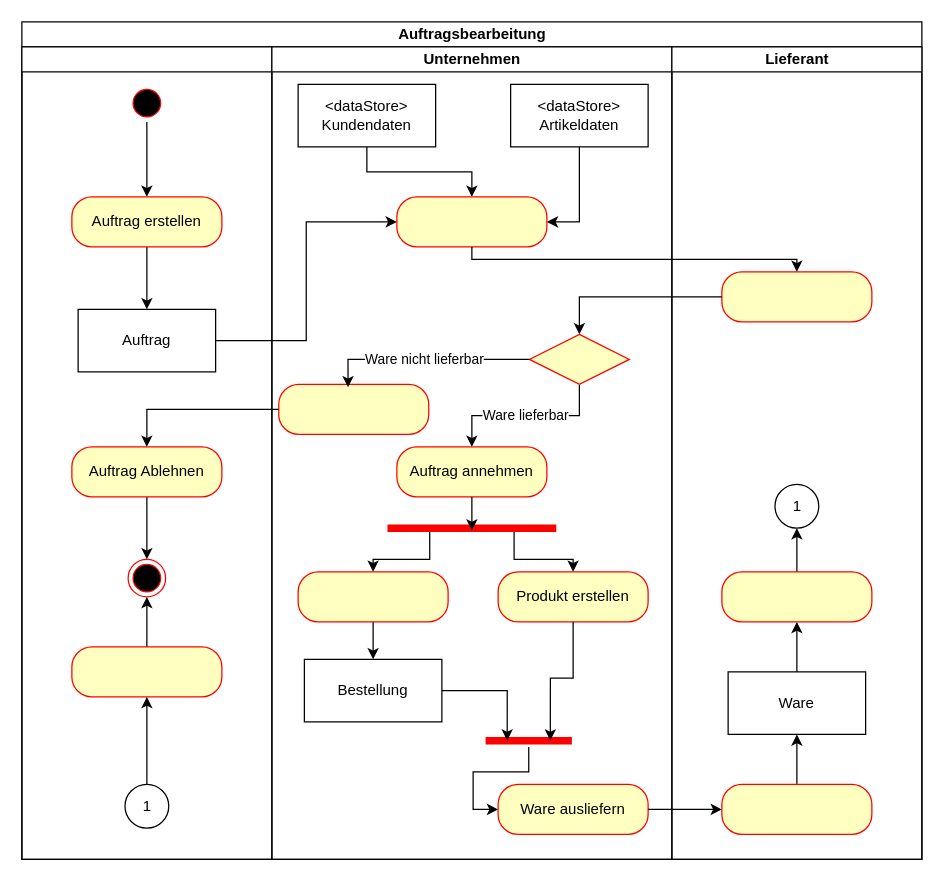
Image size: 944x881. Some labels were removed from this diagram. Each missing label, with the box of its shape:
Auftrag bearbeiten: (396, 196, 547, 247)
Bestellung abwickeln: (297, 571, 448, 622)
Kunde: (21, 46, 272, 859)
Kunde Informieren: (278, 383, 429, 434)
Lieferfähigkeit prüfen: (721, 271, 872, 322)
Ware annehmen: (721, 783, 872, 834)
Ware erhalten: (71, 646, 222, 697)
Ware liefern: (721, 571, 872, 622)
